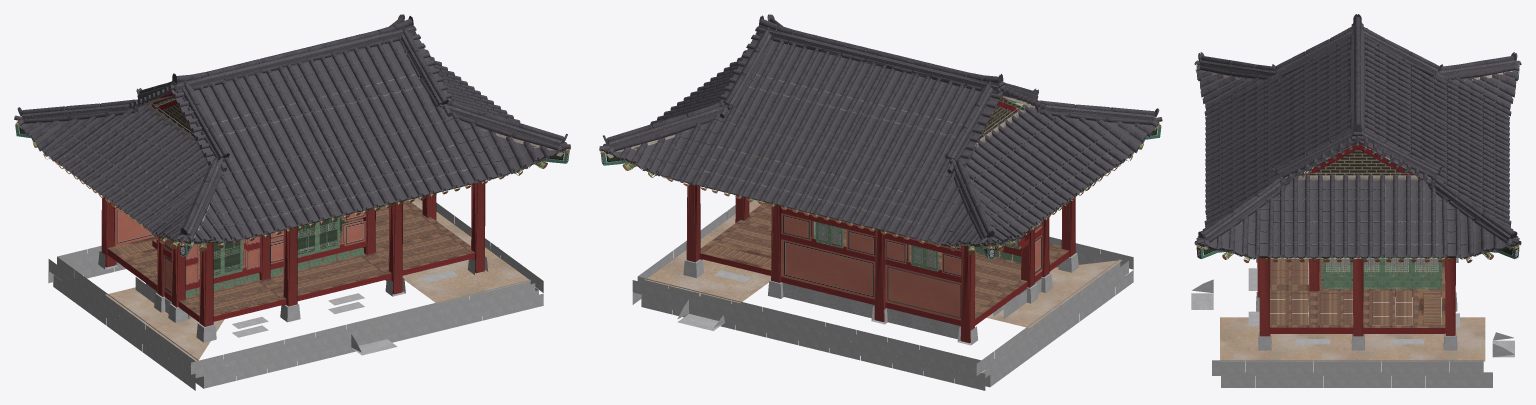
The model's file is oejeong.glb.
3 renders of one model, left to right at view 1: azimuth 30°, elevation 25°; view 2: azimuth 150°, elevation 25°; view 3: azimuth 270°, elevation 25°, orthographic. The views are drawn at different scales.
Visible parts, largest first — view 1: SM_Oijeongriso, SM_Oijeongriso_MI_R_Roof1_0.002, SM_Oijeongriso_MI_R_Roof1_0.001, SM_Oijeongriso_MI_R_Roof1_0.003, SM_Oijeongriso_MI_R_Roof1_0.006, SM_Oijeongriso_MI_R_Roof1_0.004, SM_Oijeongriso_MI_R_Roof1_0.007, SM_Oijeongriso_MI_R_Roof1_0.008, SM_Oijeongriso_MI_R_Roof1_0.005; view 2: SM_Oijeongriso, SM_Oijeongriso_MI_R_Roof1_0.007, SM_Oijeongriso_MI_R_Roof1_0.006, SM_Oijeongriso_MI_R_Roof1_0.003, SM_Oijeongriso_MI_R_Roof1_0.004, SM_Oijeongriso_MI_R_Roof1_0.001, SM_Oijeongriso_MI_R_Roof1_0.002, SM_Oijeongriso_MI_R_Roof1_0.008, SM_Oijeongriso_MI_R_Roof1_0.005; view 3: SM_Oijeongriso, SM_Oijeongriso_MI_R_Roof1_0.005, SM_Oijeongriso_MI_R_Roof1_0.007, SM_Oijeongriso_MI_R_Roof1_0.004, SM_Oijeongriso_MI_R_Roof1_0.006, SM_Oijeongriso_MI_R_Roof1_0.002, SM_Oijeongriso_MI_R_Roof1_0.003, SM_Oijeongriso_MI_R_Roof1_0.001, SM_Oijeongriso_MI_R_Roof1_0.008.
Part boxes in pixels (x1,y1,x2,y2): SM_Oijeongriso: (15, 41, 570, 390); SM_Oijeongriso_MI_R_Roof1_0.002: (14, 53, 420, 244); SM_Oijeongriso_MI_R_Roof1_0.001: (22, 33, 368, 225); SM_Oijeongriso_MI_R_Roof1_0.003: (17, 64, 467, 243); SM_Oijeongriso_MI_R_Roof1_0.006: (192, 16, 451, 234); SM_Oijeongriso_MI_R_Roof1_0.004: (89, 14, 567, 237); SM_Oijeongriso_MI_R_Roof1_0.007: (343, 39, 468, 195); SM_Oijeongriso_MI_R_Roof1_0.008: (157, 96, 476, 197); SM_Oijeongriso_MI_R_Roof1_0.005: (170, 26, 520, 171); SM_Oijeongriso: (599, 42, 1161, 390); SM_Oijeongriso_MI_R_Roof1_0.007: (695, 51, 886, 213); SM_Oijeongriso_MI_R_Roof1_0.006: (721, 15, 1016, 225); SM_Oijeongriso_MI_R_Roof1_0.003: (650, 98, 1162, 239); SM_Oijeongriso_MI_R_Roof1_0.004: (603, 14, 1159, 205); SM_Oijeongriso_MI_R_Roof1_0.001: (804, 34, 1120, 246); SM_Oijeongriso_MI_R_Roof1_0.002: (864, 57, 1131, 246); SM_Oijeongriso_MI_R_Roof1_0.008: (854, 78, 981, 236); SM_Oijeongriso_MI_R_Roof1_0.005: (670, 26, 1038, 118); SM_Oijeongriso: (1191, 63, 1521, 387); SM_Oijeongriso_MI_R_Roof1_0.005: (1271, 14, 1443, 258); SM_Oijeongriso_MI_R_Roof1_0.007: (1205, 80, 1509, 214); SM_Oijeongriso_MI_R_Roof1_0.004: (1198, 25, 1517, 258); SM_Oijeongriso_MI_R_Roof1_0.006: (1205, 34, 1509, 182); SM_Oijeongriso_MI_R_Roof1_0.002: (1198, 42, 1521, 188); SM_Oijeongriso_MI_R_Roof1_0.003: (1194, 52, 1517, 258); SM_Oijeongriso_MI_R_Roof1_0.001: (1205, 55, 1519, 162); SM_Oijeongriso_MI_R_Roof1_0.008: (1205, 35, 1509, 214).
Bounding box in the file's own units: 13.98 × 8.49 × 10.7.
19 materials, 18 textured.
